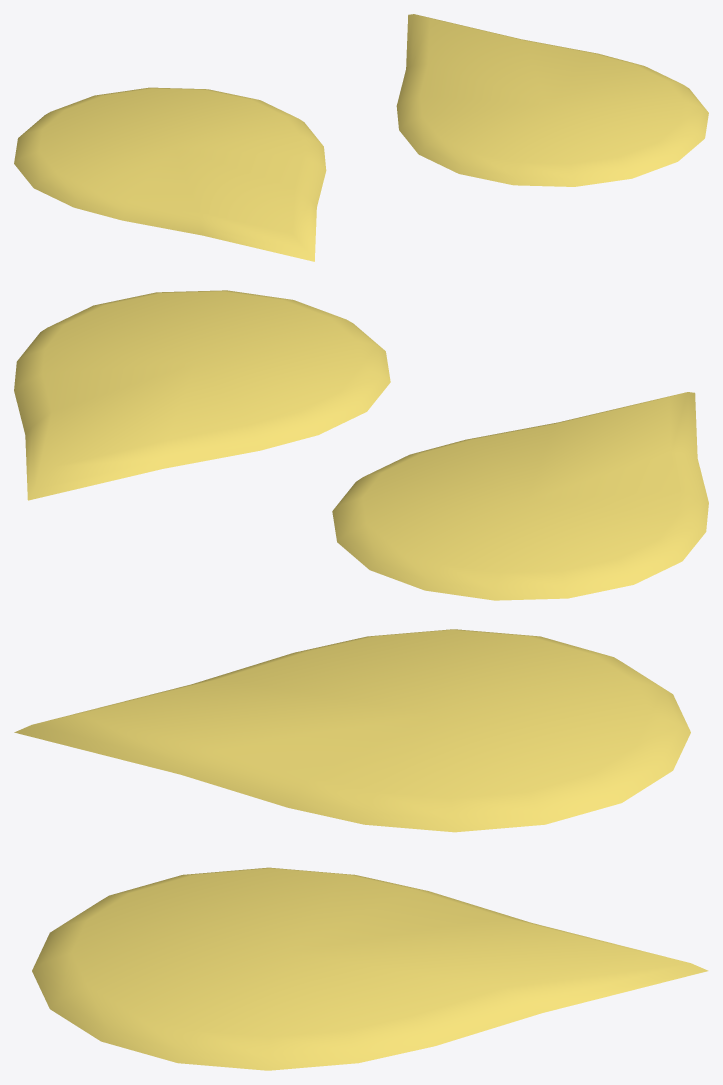
The model's file is Water Terrain.fbx.
The picture shows the model from 3 angles, top to bottom: view 1: azimuth 30°, elevation 25°; view 2: azimuth 150°, elevation 25°; view 3: azimuth 270°, elevation 25°; orthographic projection. The views are drawn at different scales.
Parts seen in each view (by area): view 1: WaterTerrain; view 2: WaterTerrain; view 3: WaterTerrain.
Part boxes in pixels (x1=…): WaterTerrain: x1=14, y1=14, x2=708, y2=261; WaterTerrain: x1=14, y1=290, x2=708, y2=600; WaterTerrain: x1=14, y1=629, x2=708, y2=1070.
Bounding box in the file's own units: 11776 × 229 × 7894.
